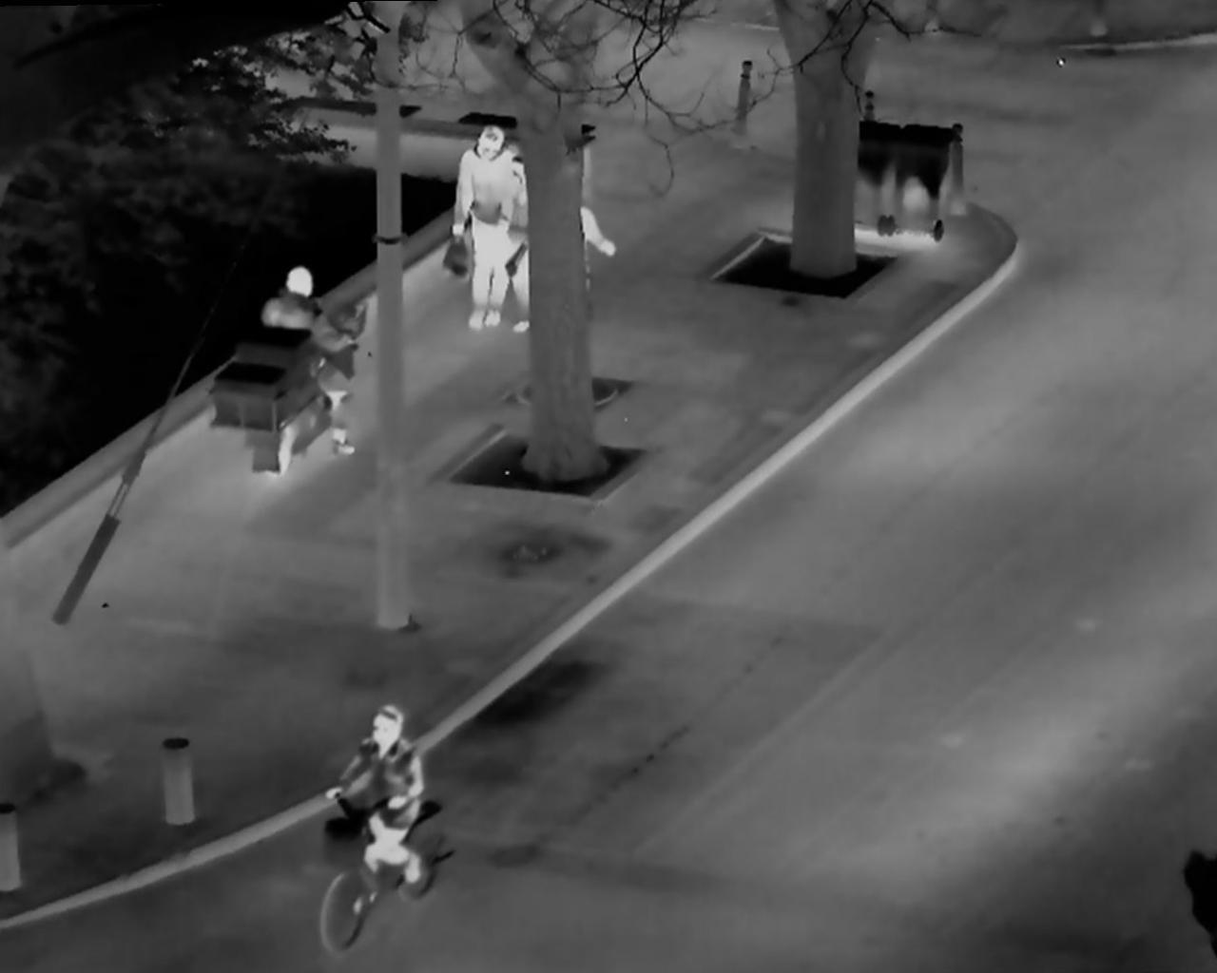person: (314, 692, 448, 917), (497, 139, 612, 334), (249, 249, 366, 440), (440, 121, 513, 334)
